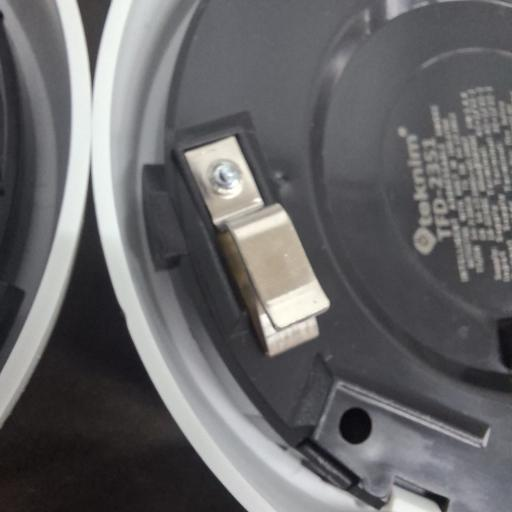yayli: (178, 130, 328, 355)
